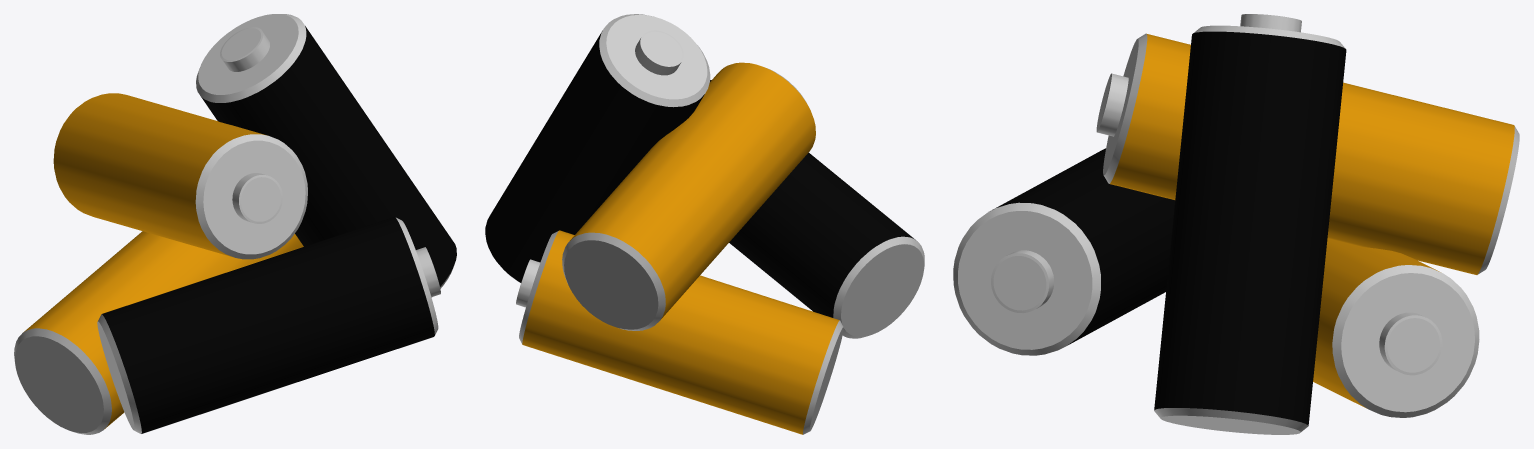
Rendered from battery.fbx.
3 views of the same model, side by side, from view 1: azimuth 30°, elevation 25°; view 2: azimuth 150°, elevation 25°; view 3: azimuth 270°, elevation 25° (orthographic). The views are drawn at different scales.
Parts seen in each view (by area): view 1: pasted__pCylinder3, pCylinder1, pasted__pasted__pasted__pCylinder3, pasted__pasted__pCylinder1, pCylinder2, pasted__pasted__pasted__pCylinder2, pasted__pCylinder2; view 2: pCylinder1, pasted__pasted__pCylinder1, pasted__pasted__pasted__pCylinder3, pasted__pCylinder3, pasted__pasted__pasted__pCylinder2, pasted__pasted__pCylinder2; view 3: pasted__pasted__pasted__pCylinder3, pCylinder1, pasted__pCylinder3, pasted__pasted__pCylinder1, pasted__pasted__pCylinder2, pasted__pCylinder2, pCylinder2, pasted__pasted__pasted__pCylinder2.
Part boxes in pixels (x1=…): pasted__pCylinder3: x1=97, y1=217, x2=438, y2=433; pCylinder1: x1=53, y1=93, x2=307, y2=259; pasted__pasted__pasted__pCylinder3: x1=196, y1=14, x2=456, y2=288; pasted__pasted__pCylinder1: x1=14, y1=231, x2=303, y2=434; pCylinder2: x1=232, y1=173, x2=282, y2=223; pasted__pasted__pasted__pCylinder2: x1=220, y1=27, x2=269, y2=71; pasted__pCylinder2: x1=416, y1=247, x2=440, y2=297; pCylinder1: x1=562, y1=62, x2=815, y2=330; pasted__pasted__pCylinder1: x1=519, y1=230, x2=843, y2=434; pasted__pasted__pasted__pCylinder3: x1=485, y1=14, x2=710, y2=282; pasted__pCylinder3: x1=710, y1=80, x2=924, y2=338; pasted__pasted__pasted__pCylinder2: x1=635, y1=30, x2=683, y2=75; pasted__pasted__pCylinder2: x1=516, y1=259, x2=540, y2=307; pasted__pasted__pasted__pCylinder3: x1=1154, y1=25, x2=1346, y2=434; pCylinder1: x1=1103, y1=33, x2=1519, y2=274; pasted__pCylinder3: x1=953, y1=148, x2=1175, y2=355; pasted__pasted__pCylinder1: x1=1313, y1=238, x2=1479, y2=417; pasted__pasted__pCylinder2: x1=1379, y1=312, x2=1442, y2=375; pasted__pCylinder2: x1=991, y1=250, x2=1054, y2=313; pCylinder2: x1=1096, y1=73, x2=1128, y2=136; pasted__pasted__pasted__pCylinder2: x1=1240, y1=14, x2=1301, y2=32.
Size of the model in its own units: 11.89 by 10.81 by 12.22.
